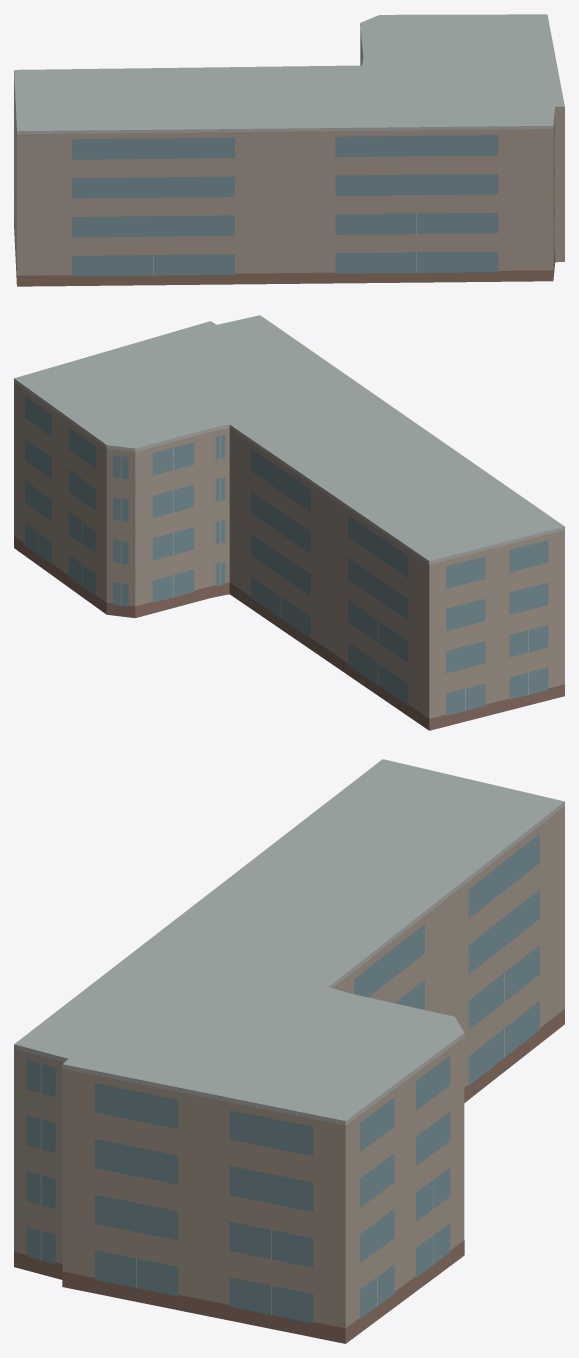
Rendered from survey-upis-32943264.glb.
The picture shows the model from 3 angles, top to bottom: view 1: azimuth 30°, elevation 25°; view 2: azimuth 150°, elevation 25°; view 3: azimuth 270°, elevation 25°; orthographic projection. The views are drawn at different scales.
Parts seen in each view (by area): view 1: survey-upis-32943264.tmp; view 2: survey-upis-32943264.tmp; view 3: survey-upis-32943264.tmp.
Boxes of the visible parts, box(x1,y1,x2,y2) form: survey-upis-32943264.tmp: box(14, 14, 564, 286); survey-upis-32943264.tmp: box(14, 315, 564, 730); survey-upis-32943264.tmp: box(14, 759, 564, 1343).
Size of the model in its own units: 42.52 by 12.2 by 27.35.
